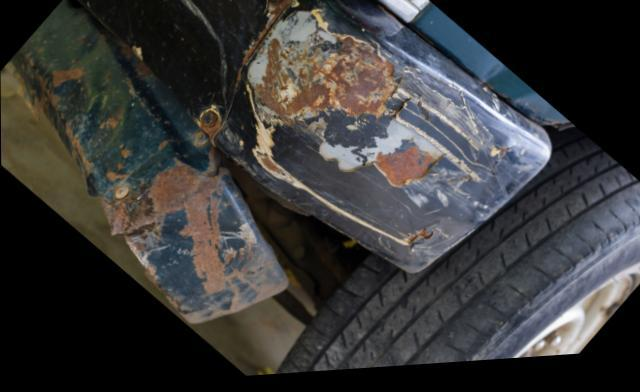dislocated part: (9, 0, 410, 327)
scratch: (238, 1, 500, 254)
